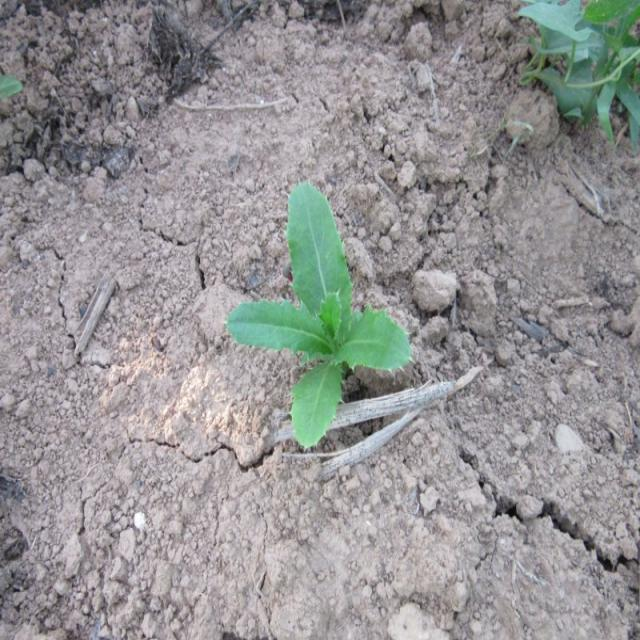cs: (226, 177, 414, 450)
